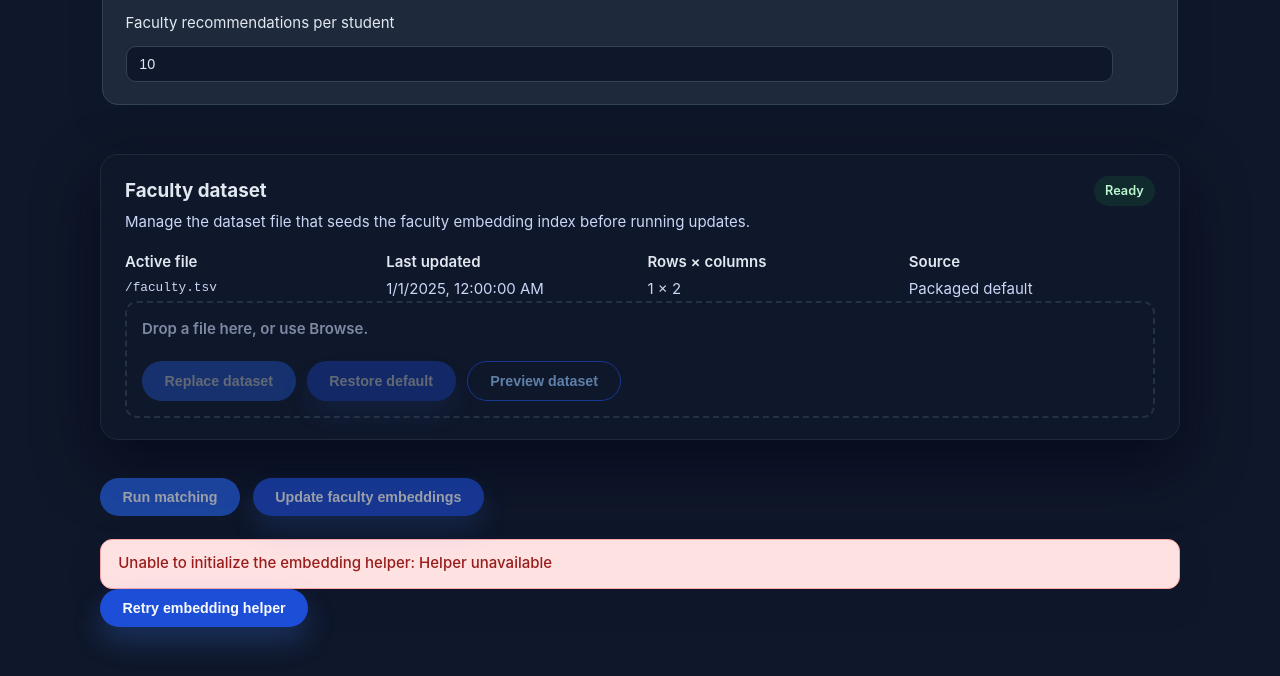
can retry initialization after the embedding helper fails to start
(page scrolled)
Click the button "Retry embedding helper" at (204, 608), box [100,589,308,627]
(page scrolled)
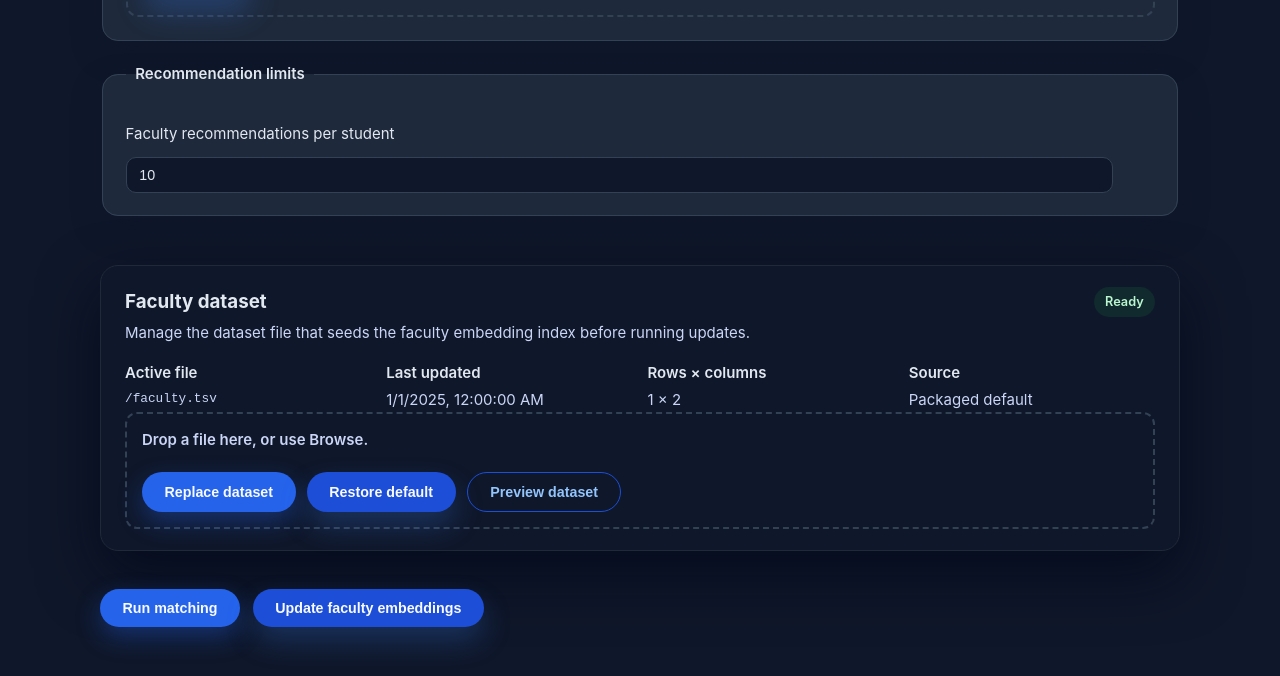
Check: the button "Run matching" is enabled, box [100,589,240,627]
